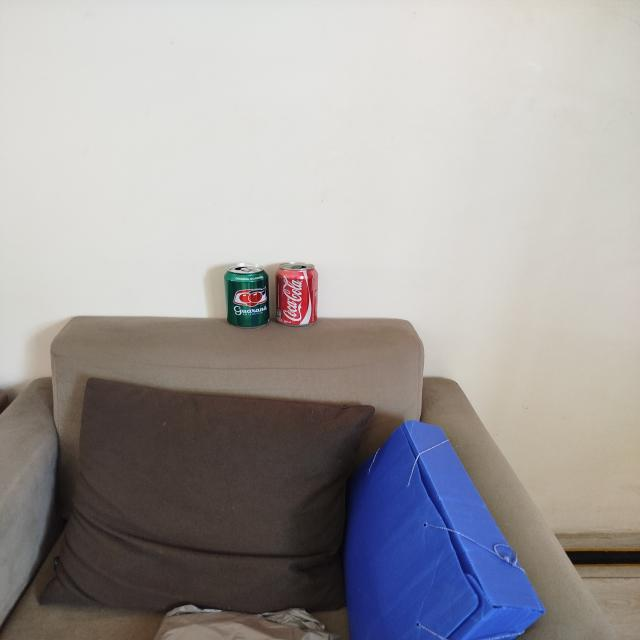Coca Cola: (274, 262, 319, 326)
Guarana: (224, 264, 271, 327)
